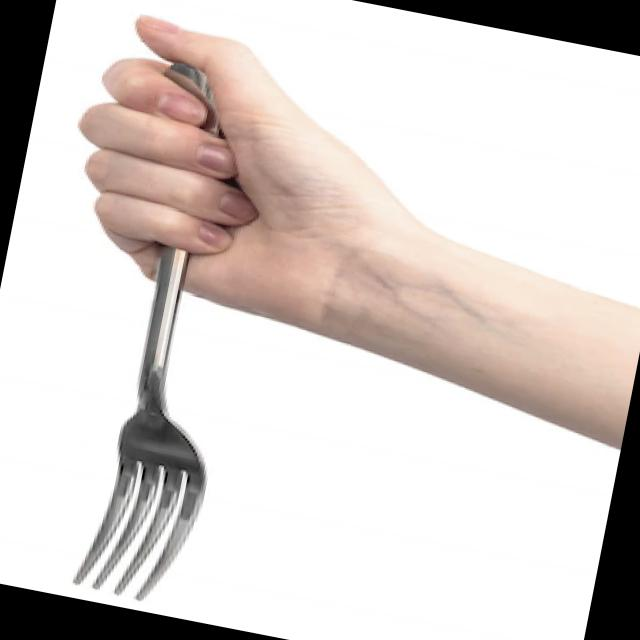fork: (59, 59, 286, 616)
